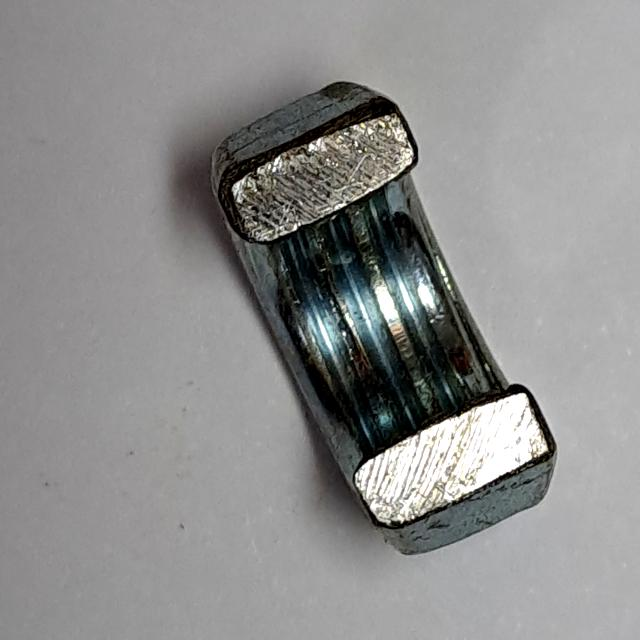Side-Fracture: (196, 68, 572, 568)
